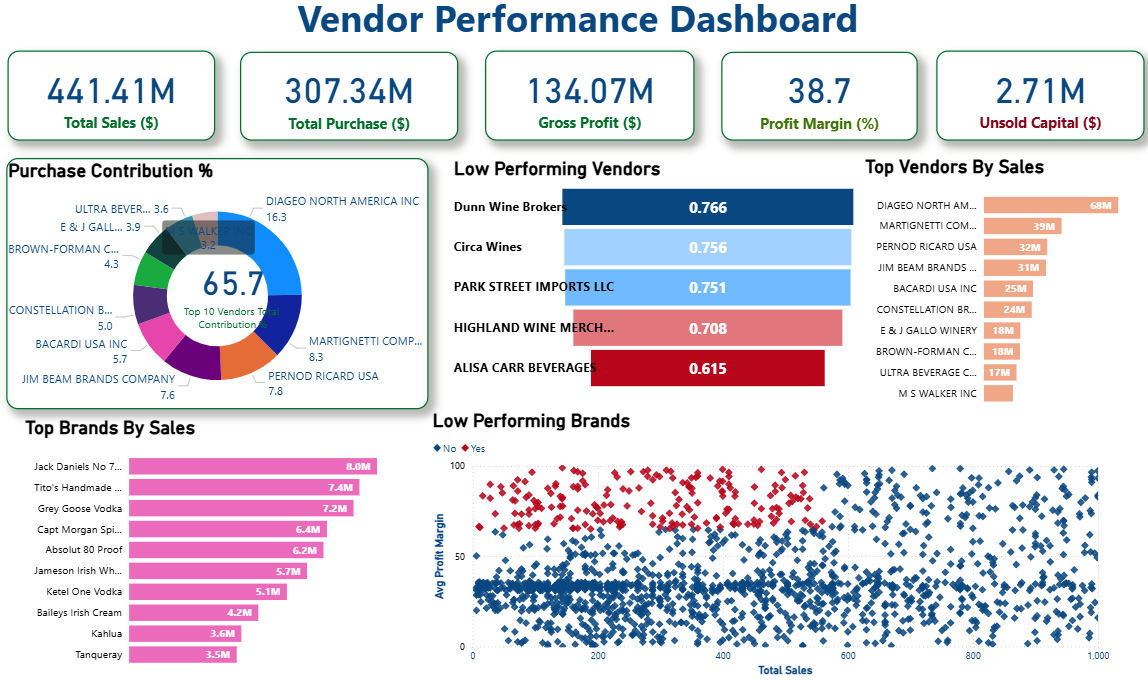

This screenshot's page, from the dashboard's own definition file:
{"tool":"powerbi","page":{"name":"Page 1","canvas":[1500,900],"ordinal":0},"visuals":[{"type":"card","fields":{"Values":["Sum(vendor_sales_summary.TotalPurchaseDollars)"]},"box":[315.8,82.4,280.9,114.6],"z":0},{"type":"card","fields":{"Values":["Sum(vendor_sales_summary.TotalSalesDollars)"]},"box":[16.8,81,266.9,116],"z":1000},{"type":"card","fields":{"Values":["Sum(vendor_sales_summary.GrossProfit)"]},"box":[630.2,81,269.7,116],"z":2000},{"type":"card","fields":{"Values":["Avg(vendor_sales_summary.ProfitMargin)"]},"box":[934.8,82.4,252.9,114.6],"z":3000},{"type":"card","fields":{"Values":["Sum(vendor_sales_summary.UnsoldCapital)"]},"box":[1210.1,81,268.3,116],"z":4000},{"type":"textbox","box":[0,0,1500,83],"z":5000},{"type":"donutChart","title":"Purchase Contribution % ","fields":{"Category":["PurchaseContribution.VendorName"],"Y":["Sum(PurchaseContribution.PurchaseContribution%)"]},"box":[14.5,218.7,543.5,323.2],"z":6000},{"type":"card","fields":{"Values":["Sum(PurchaseContribution.PurchaseContribution%)"]},"box":[211.8,266.7,188.2,233.3],"z":7000},{"type":"barChart","title":"Top Vendors By Sales","fields":{"Category":["vendor_sales_summary.VendorName"],"Y":["Sum(vendor_sales_summary.TotalSalesDollars)"]},"box":[1114.4,215.5,385.9,332.9],"z":8000},{"type":"barChart","title":"Top Brands By Sales","fields":{"Category":["vendor_sales_summary.Description"],"Y":["Sum(vendor_sales_summary.TotalSalesDollars)"]},"box":[33.8,551.6,504.9,332.9],"z":9000},{"type":"funnel","title":"Low Performing Vendors","fields":{"Category":["LowTurnoverVendor.VendorName"],"Y":["Avg(LowTurnoverVendor.AvgStockTurnOver)"]},"box":[585.3,218.7,529.1,303.9],"z":10000},{"type":"scatterChart","title":"Low Performing Brands","fields":{"X":["Sum(BrandPerformance.TotalSales)"],"Y":["Sum(BrandPerformance.AvgProfitMargin)"],"Series":["BrandPerformance.TargetBrand"],"Category":["BrandPerformance.Description"]},"box":[558,541.9,881.2,349],"z":11000}]}

Visuals, with their boxes in screenshot pixels (x1, y1, x2, y2), scaled from the page's 1500x900 canvas onto the 1148x681 screenshot:
card - Sum(vendor_sales_summary.TotalPurchaseDollars): (left=242, top=62, right=457, bottom=149)
card - Sum(vendor_sales_summary.TotalSalesDollars): (left=13, top=61, right=217, bottom=149)
card - Sum(vendor_sales_summary.GrossProfit): (left=482, top=61, right=689, bottom=149)
card - Avg(vendor_sales_summary.ProfitMargin): (left=715, top=62, right=909, bottom=149)
card - Sum(vendor_sales_summary.UnsoldCapital): (left=926, top=61, right=1131, bottom=149)
textbox: (left=0, top=0, right=1147, bottom=63)
"Purchase Contribution % " donutChart: (left=11, top=165, right=427, bottom=410)
card - Sum(PurchaseContribution.PurchaseContribution%): (left=162, top=202, right=306, bottom=378)
"Top Vendors By Sales" barChart: (left=853, top=163, right=1147, bottom=415)
"Top Brands By Sales" barChart: (left=26, top=417, right=412, bottom=669)
"Low Performing Vendors" funnel: (left=448, top=165, right=853, bottom=395)
"Low Performing Brands" scatterChart: (left=427, top=410, right=1101, bottom=674)
